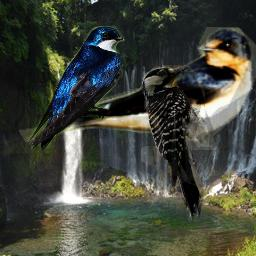Swallow: (19, 27, 256, 150), (27, 26, 125, 151)
Woodpecker: (141, 65, 218, 223)
